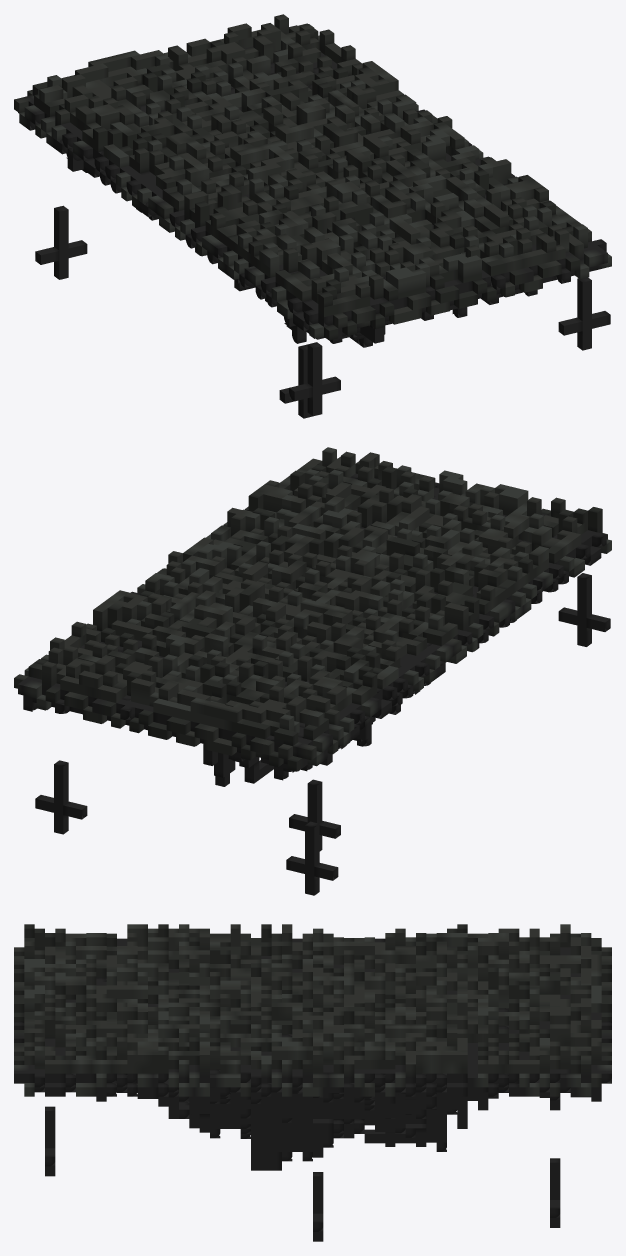
The model's file is DarkPlataform.fbx.
3 views of the same model, one above another, from view 1: azimuth 30°, elevation 25°; view 2: azimuth 150°, elevation 25°; view 3: azimuth 270°, elevation 25° (orthographic). The views are drawn at different scales.
Parts seen in each view (by area): view 1: Model; view 2: Model; view 3: Model.
Part boxes in pixels (box(x1,y1,x2,y2)): Model: box(14, 14, 611, 418); Model: box(14, 447, 611, 895); Model: box(14, 924, 611, 1241).
Size of the model in its own units: 1876 by 1490 by 3200.
Materials: 1 (1 with a texture image).
